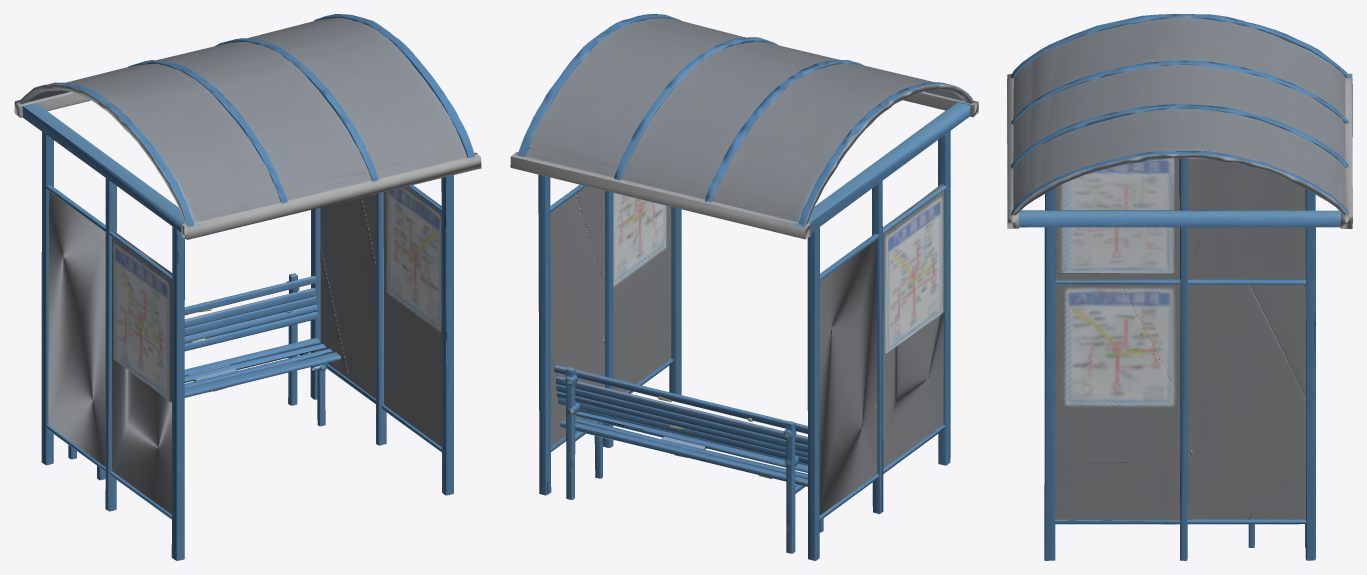
File: bus_stop.glb
3 views of the same model, side by side, from view 1: azimuth 30°, elevation 25°; view 2: azimuth 150°, elevation 25°; view 3: azimuth 270°, elevation 25° (orthographic).
Visible parts, largest first — view 1: geometry_0; view 2: geometry_0; view 3: geometry_0.
Boxes of the visible parts, x1=… form: geometry_0: x1=14, y1=14, x2=481, y2=560; geometry_0: x1=510, y1=14, x2=978, y2=560; geometry_0: x1=1007, y1=14, x2=1352, y2=560.
Size of the model in its own units: 0.7544 by 1 by 0.7675.
Materials: 1 (1 with a texture image).
